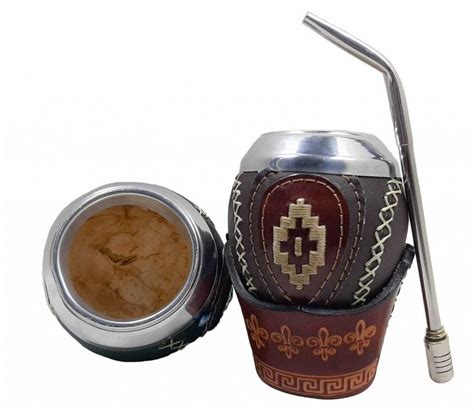cuero: (228, 168, 418, 401)
